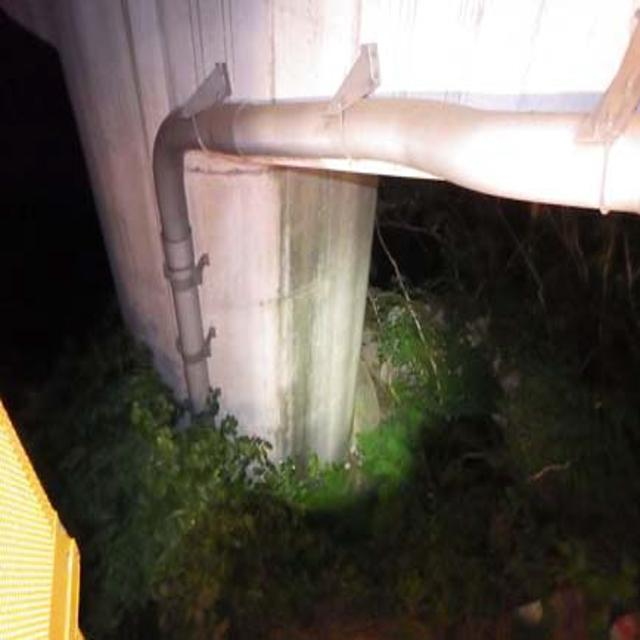leakage: (257, 174, 376, 466)
